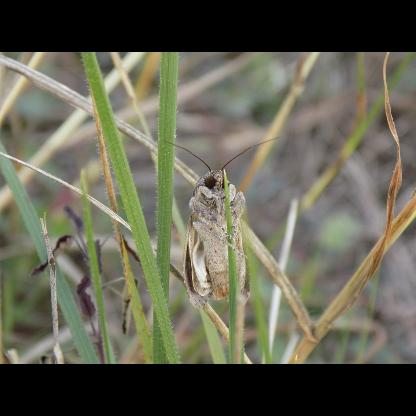Fall Armyworm Moth: (158, 132, 286, 312)
